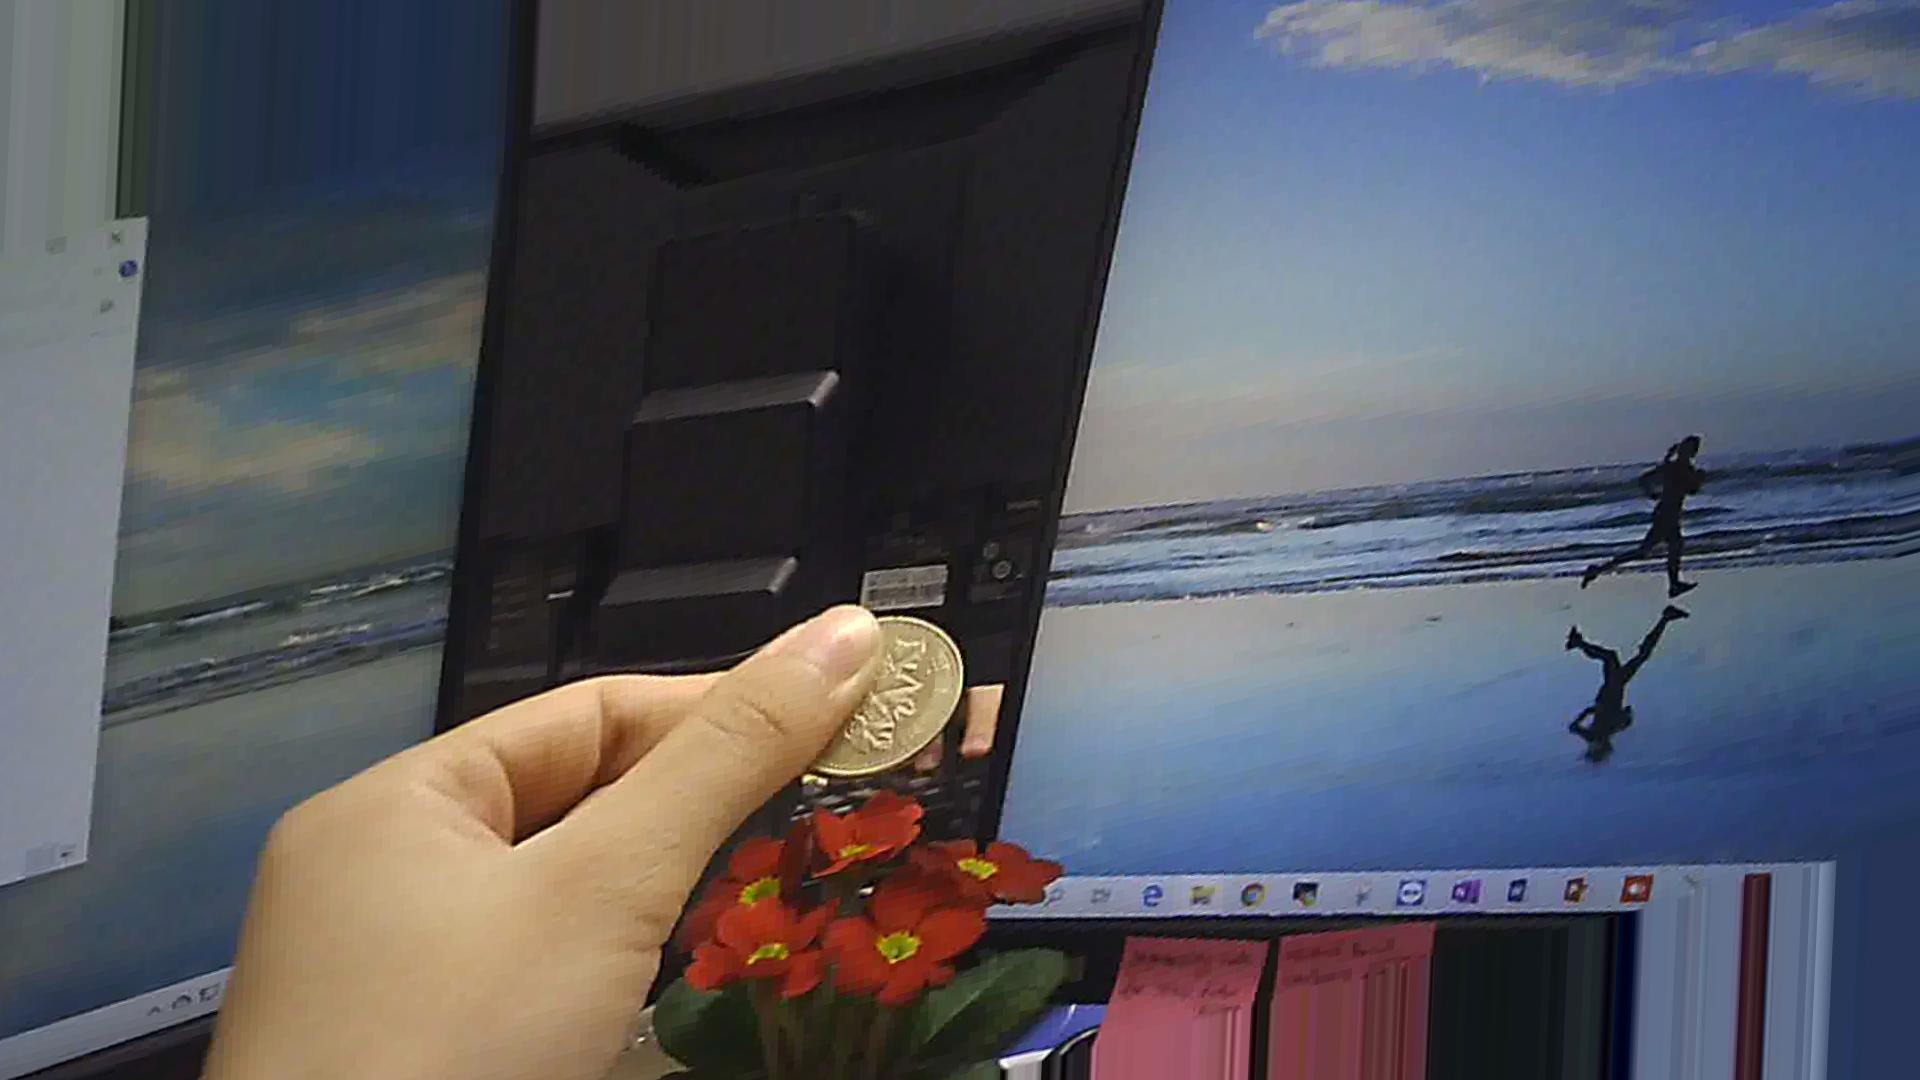500 Yen: (789, 595, 971, 765)
